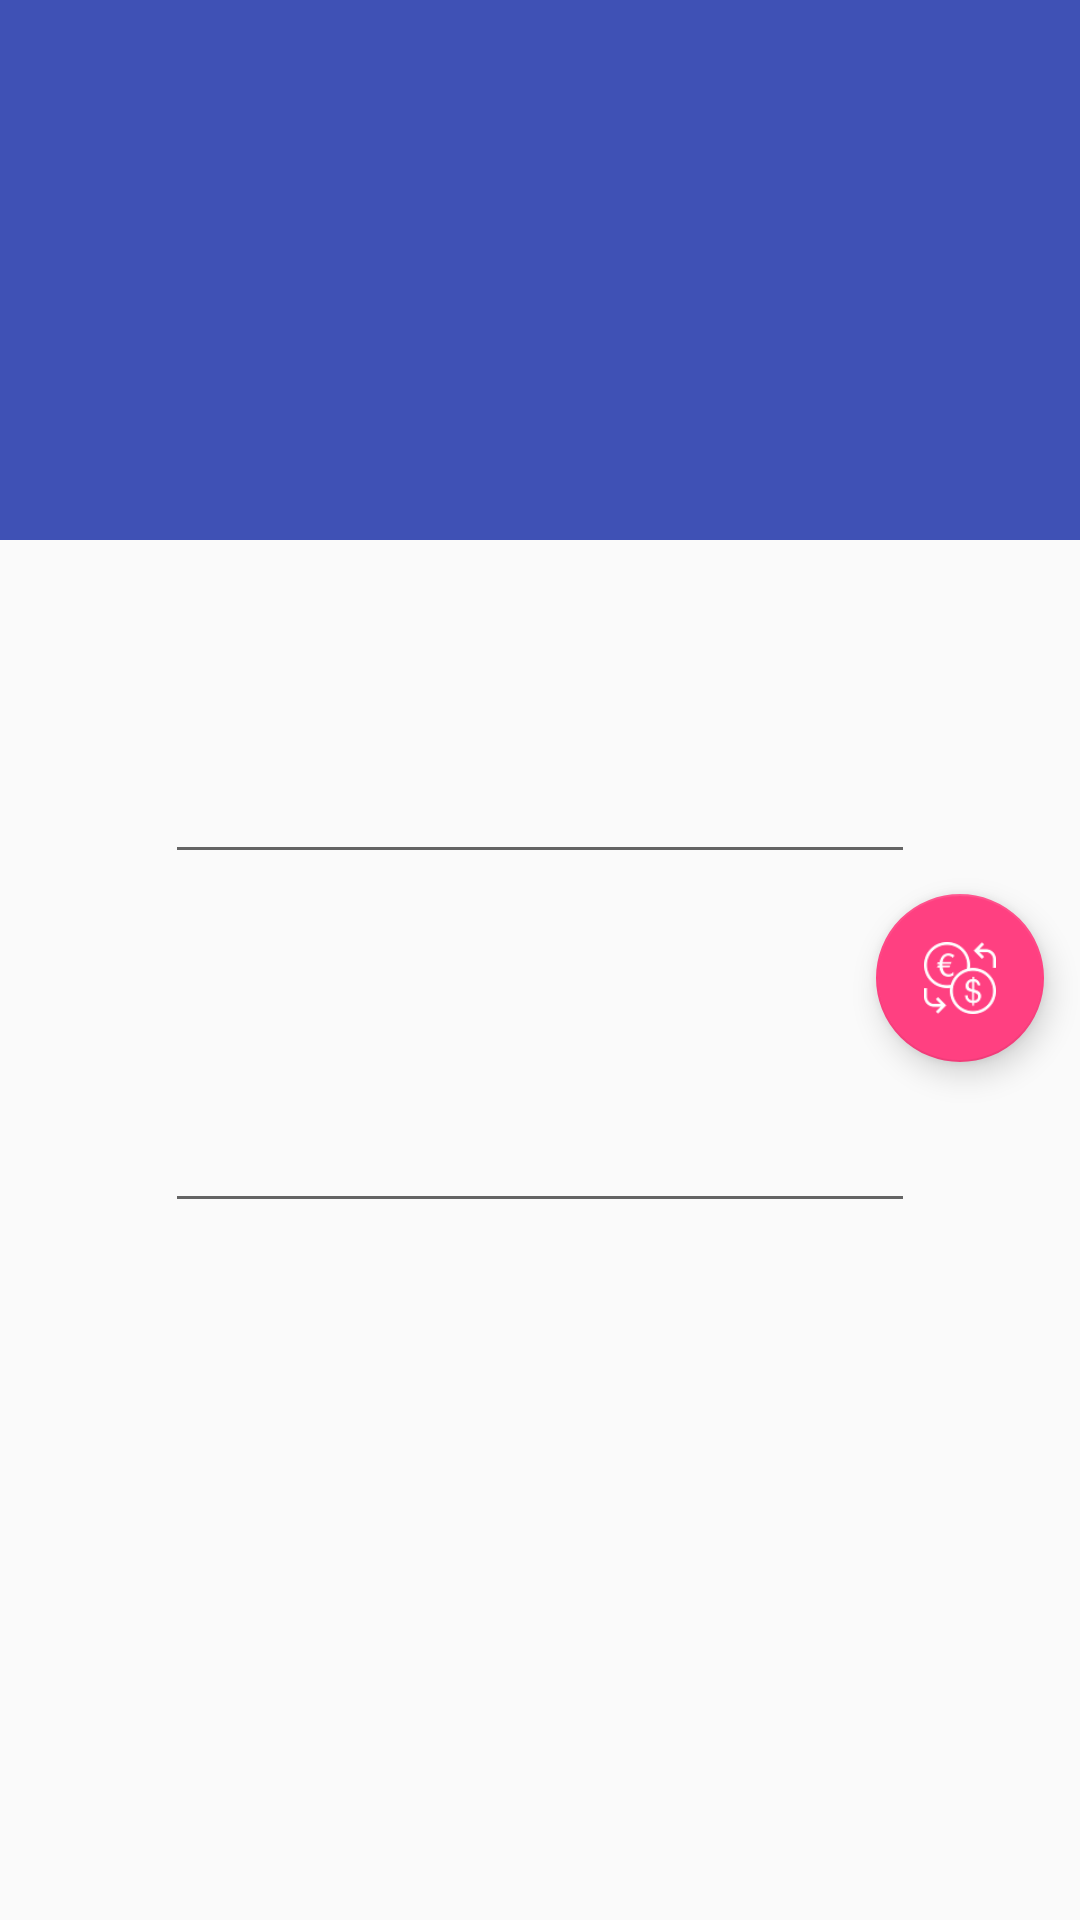

Screen size 1080×1920. Icon name, then its box in pixels as [x1=x1, y1=y1, x2=x2, y2=y2]:
convert: [x1=876, y1=894, x2=1047, y2=1069]
